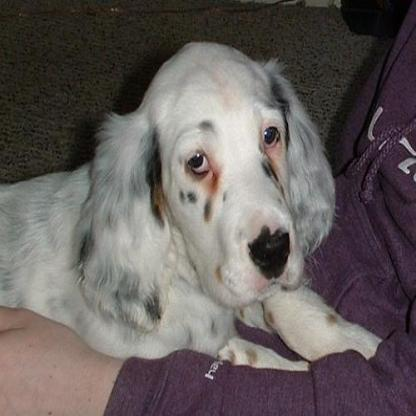English_setter: (0, 35, 386, 372)
